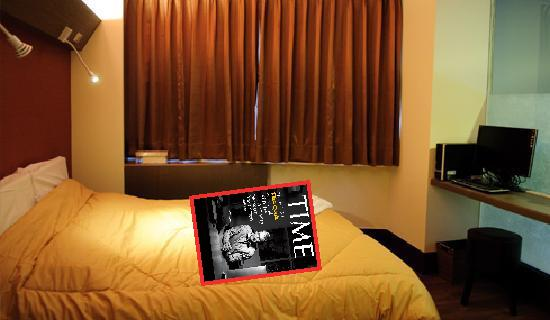times: (187, 178, 323, 292)
